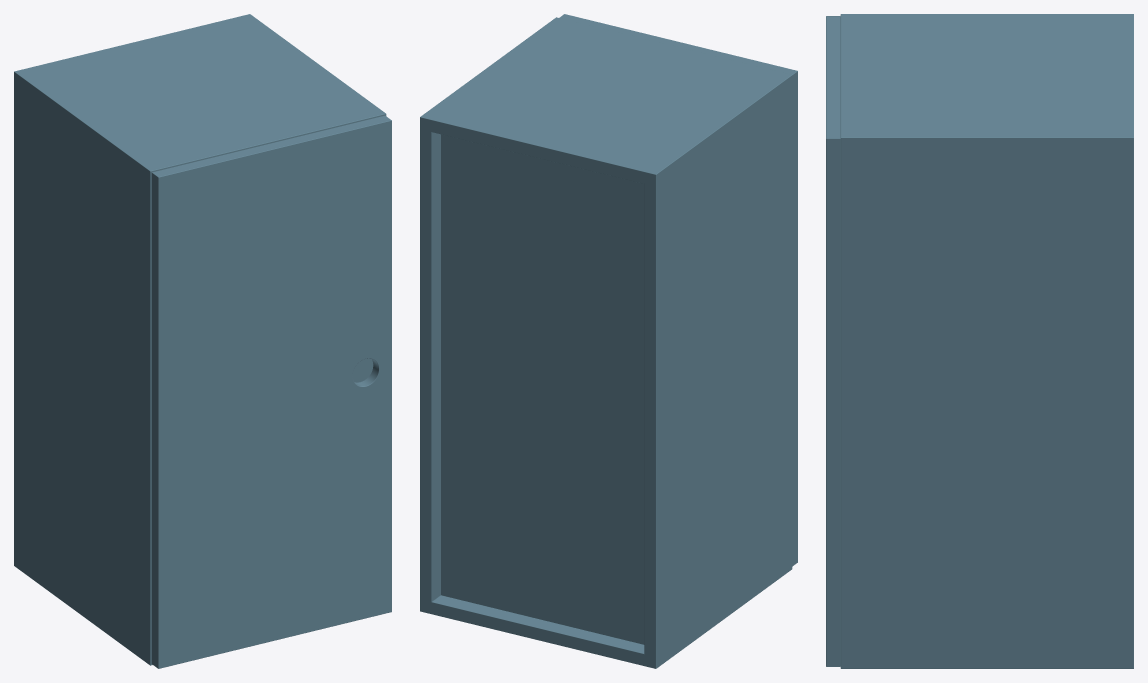
The model's file is MOD-1X2-D-B-DER-AC.glb.
The picture shows the model from 3 angles, left to right: view 1: azimuth 30°, elevation 25°; view 2: azimuth 150°, elevation 25°; view 3: azimuth 270°, elevation 25°; orthographic projection. The views are drawn at different scales.
Size of the model in its own units: 360 by 720 by 378.
